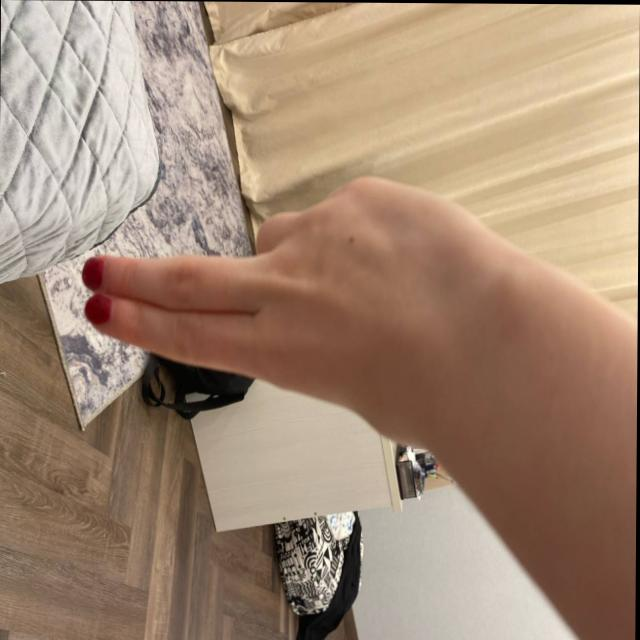p: (82, 171, 509, 465)
